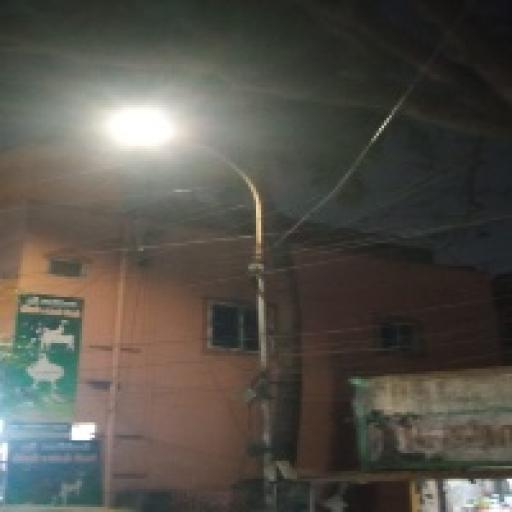Working: (96, 97, 198, 164)
